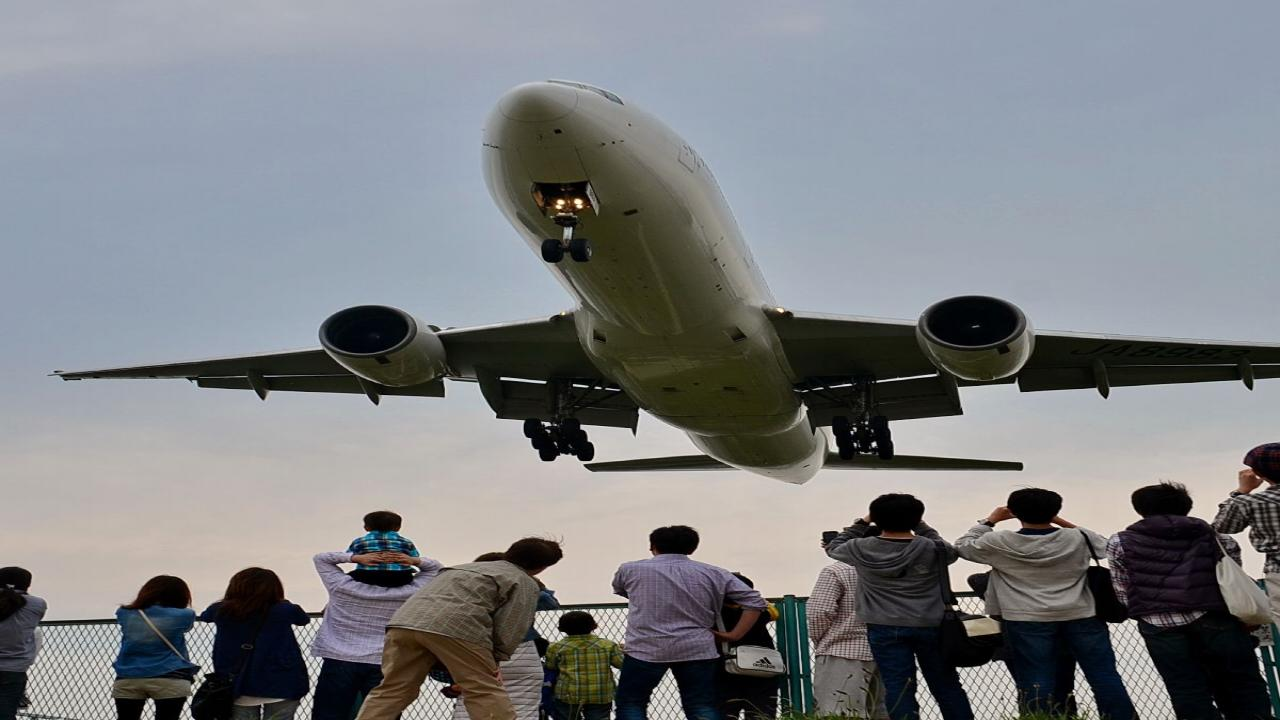Airplane: (28, 65, 1280, 492)
